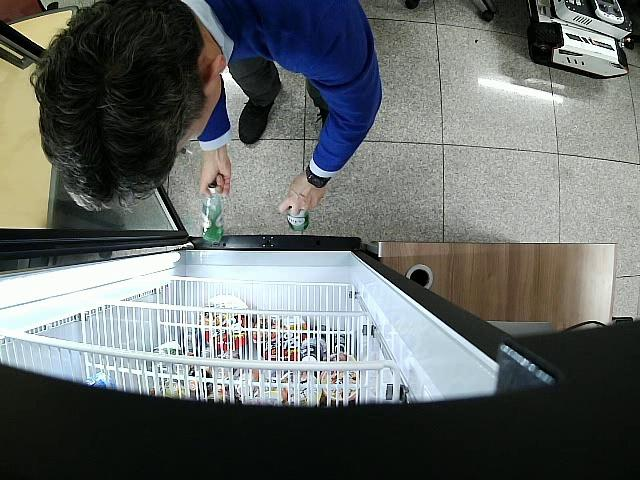00_hand: (277, 181, 322, 217), (201, 152, 231, 201)
18_trevi: (201, 187, 223, 246), (287, 206, 310, 231)
